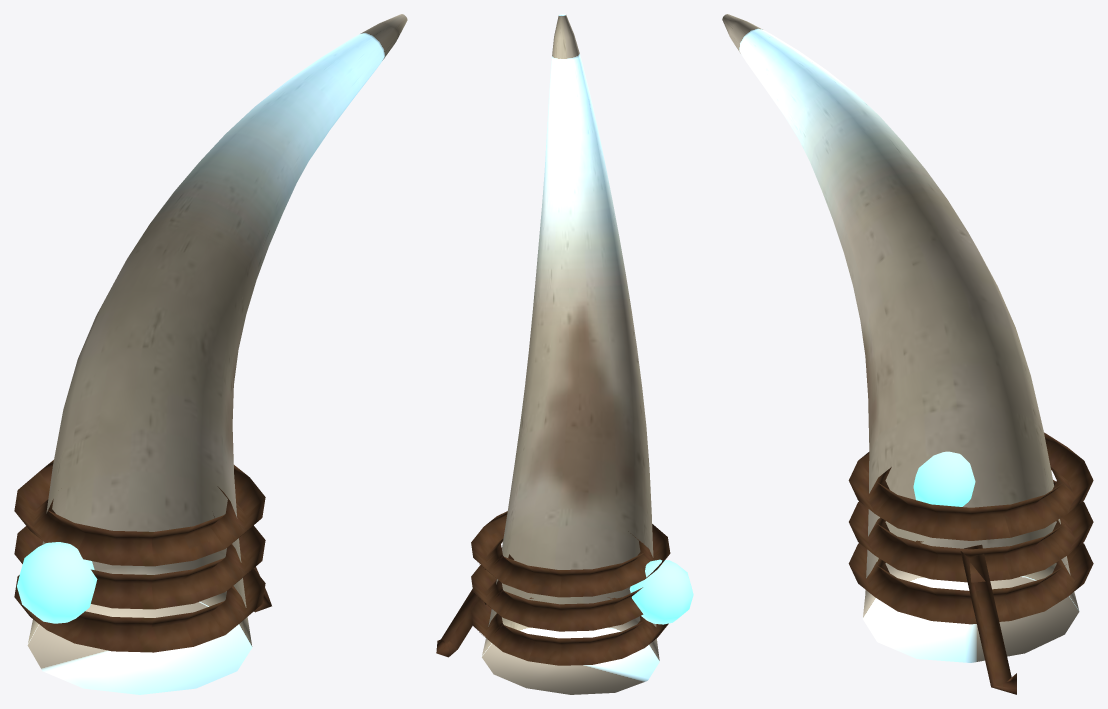
File: wolf_fang.glb
3 views of the same model, side by side, from view 1: azimuth 30°, elevation 25°; view 2: azimuth 150°, elevation 25°; view 3: azimuth 270°, elevation 25° (orthographic). The views are drawn at different scales.
Visible parts, largest first — view 1: Fang, FangBinding, SpiritBead; view 2: Fang, FangBinding, SpiritBead; view 3: Fang, FangBinding, SpiritBead.
Boxes of the visible parts, x1=… form: Fang: x1=27, y1=14, x2=407, y2=694; FangBinding: x1=14, y1=460, x2=271, y2=652; SpiritBead: x1=17, y1=542, x2=97, y2=623; Fang: x1=481, y1=14, x2=659, y2=694; FangBinding: x1=436, y1=511, x2=670, y2=665; SpiritBead: x1=629, y1=559, x2=693, y2=624; Fang: x1=722, y1=14, x2=1079, y2=662; FangBinding: x1=848, y1=432, x2=1093, y2=694; SpiritBead: x1=913, y1=451, x2=975, y2=506.
Size of the model in its own units: 0.1014 by 0.2441 by 0.1213.
3 materials, 2 textured.
